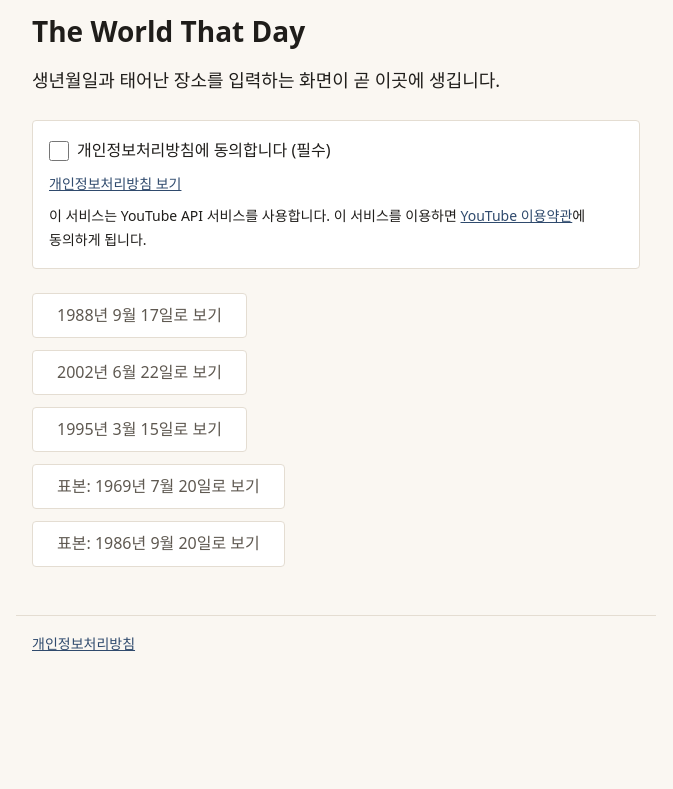
Test: synthetic tragic days through the demo button › worldWithTragic: every new-tab link says so, no media in the section
This screenshot has width=673, height=789.
Click the checkbox labelled "개인정보처리방침에 동의합니다 (필수)" at (59, 151), box [49,141,69,161]
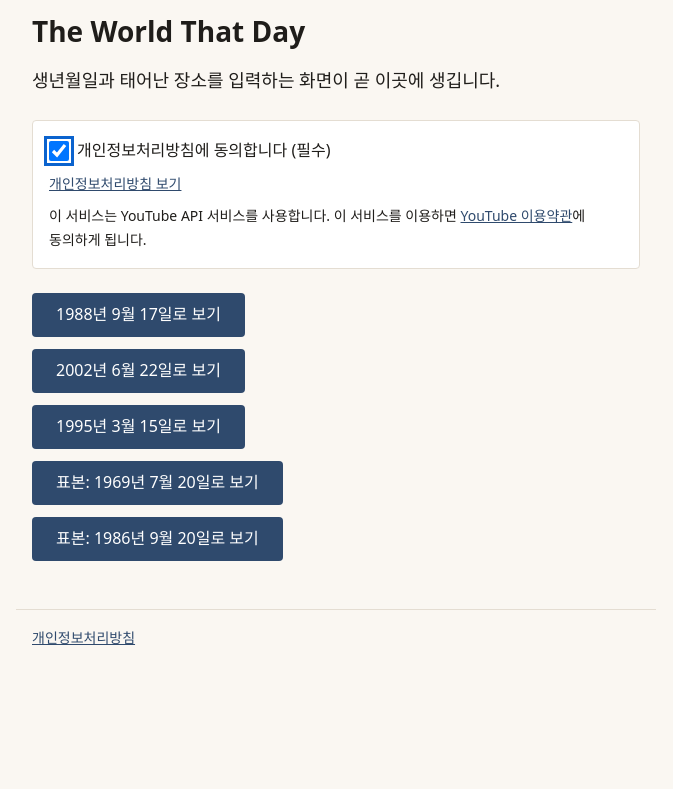
Click the button "1988년 9월 17일로 보기" at (138, 315), box [32,293,245,337]
(page scrolled)
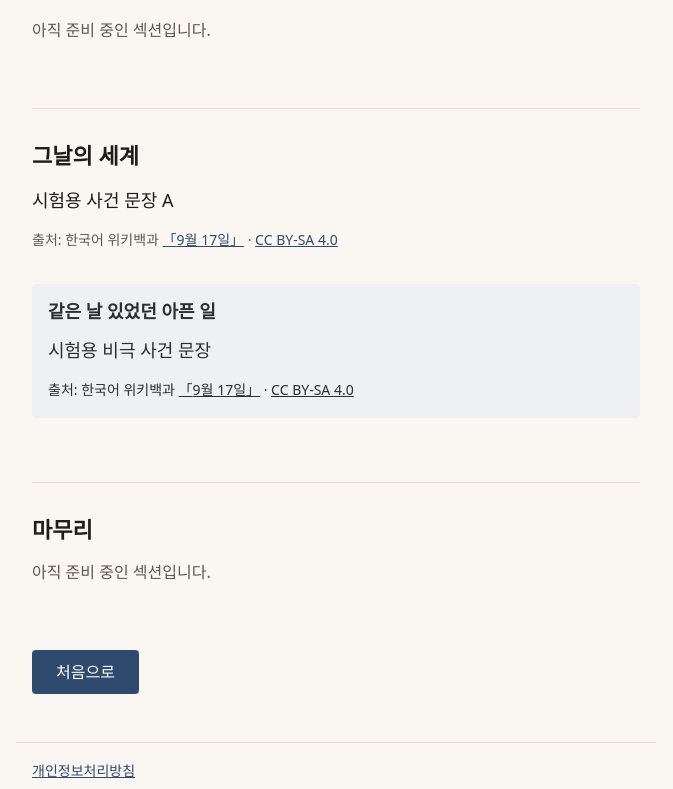
Check: the text "시험용 비극 사건 문장" is shown, box [48,338,211,362]
